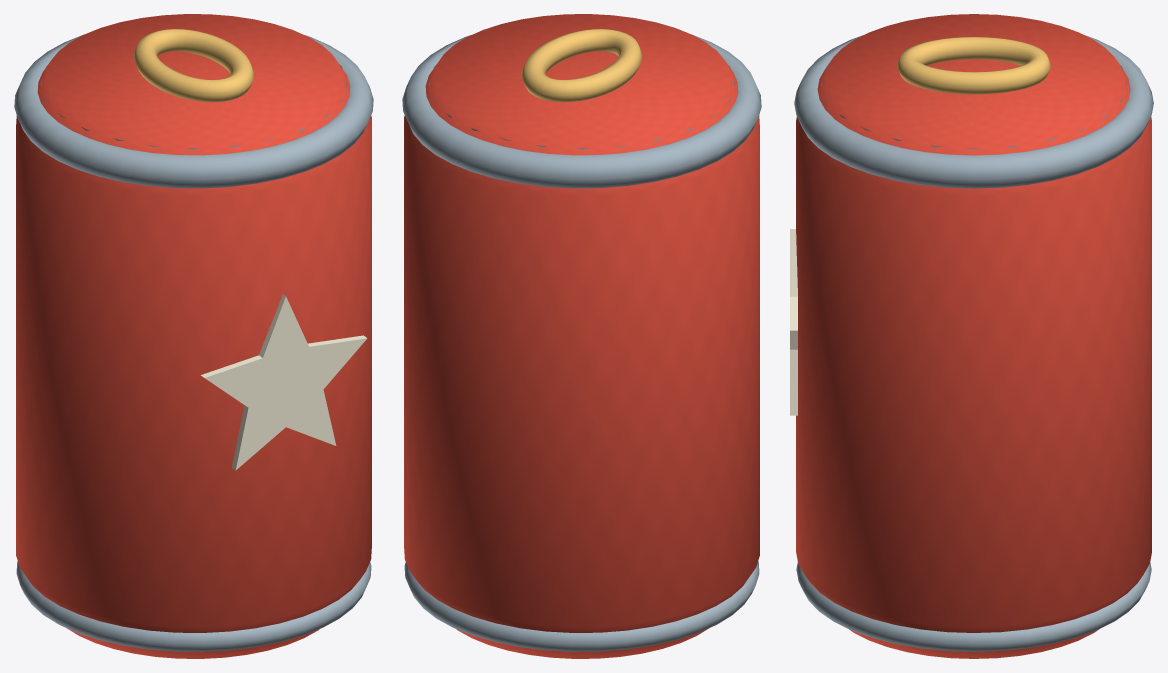
File: SODA.glb
3 views of the same model, side by side, from view 1: azimuth 30°, elevation 25°; view 2: azimuth 150°, elevation 25°; view 3: azimuth 270°, elevation 25° (orthographic).
Visible parts, largest first — view 1: SODA; view 2: SODA; view 3: SODA.
Boxes of the visible parts, x1=… form: SODA: x1=14, y1=14, x2=373, y2=658; SODA: x1=402, y1=14, x2=761, y2=658; SODA: x1=790, y1=14, x2=1153, y2=658.
Size of the model in its own units: 0.1818 by 0.302 by 0.1839.
Materials: 4 (1 with a texture image).
